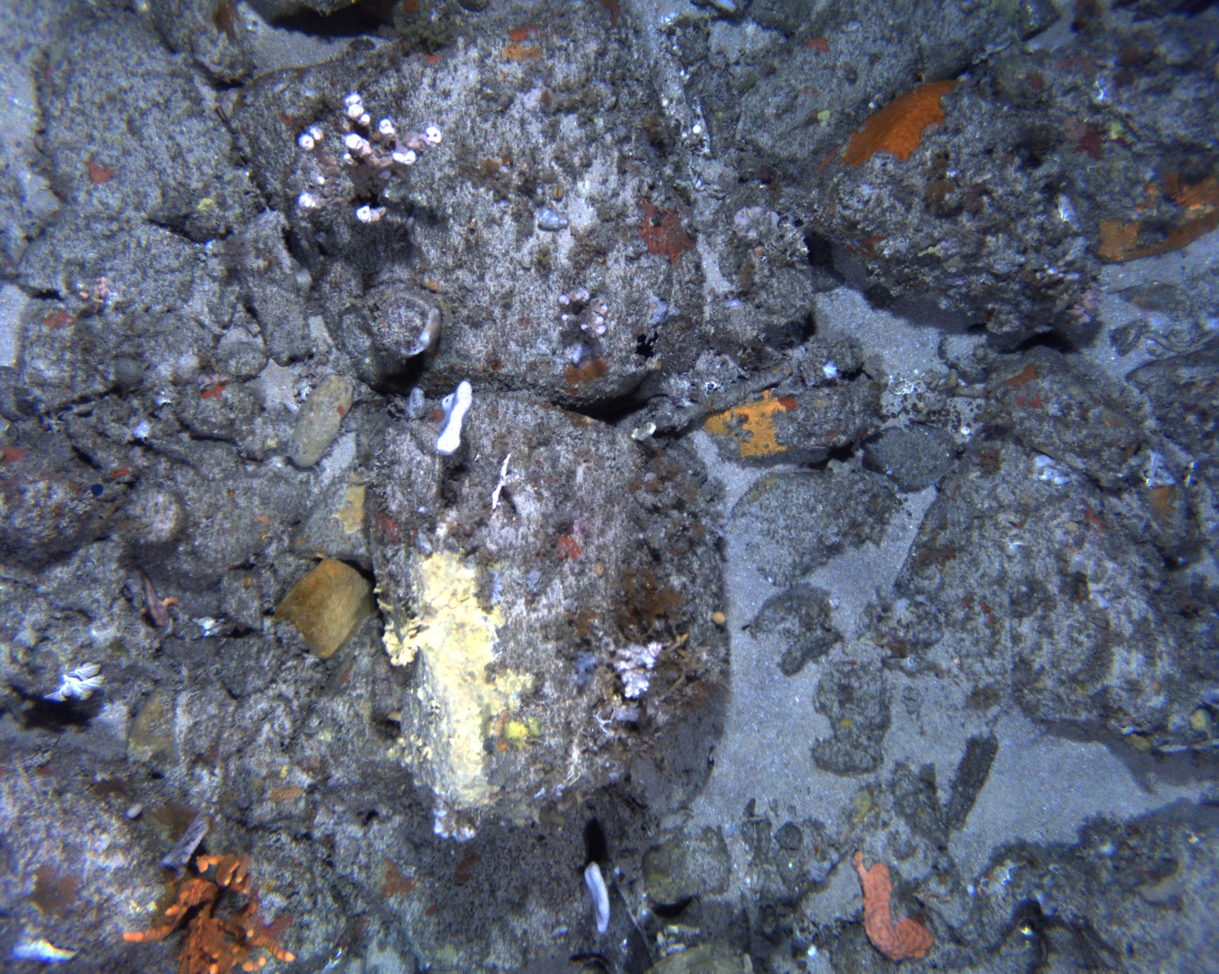Brachionichthyidae: (132, 563, 179, 633)
